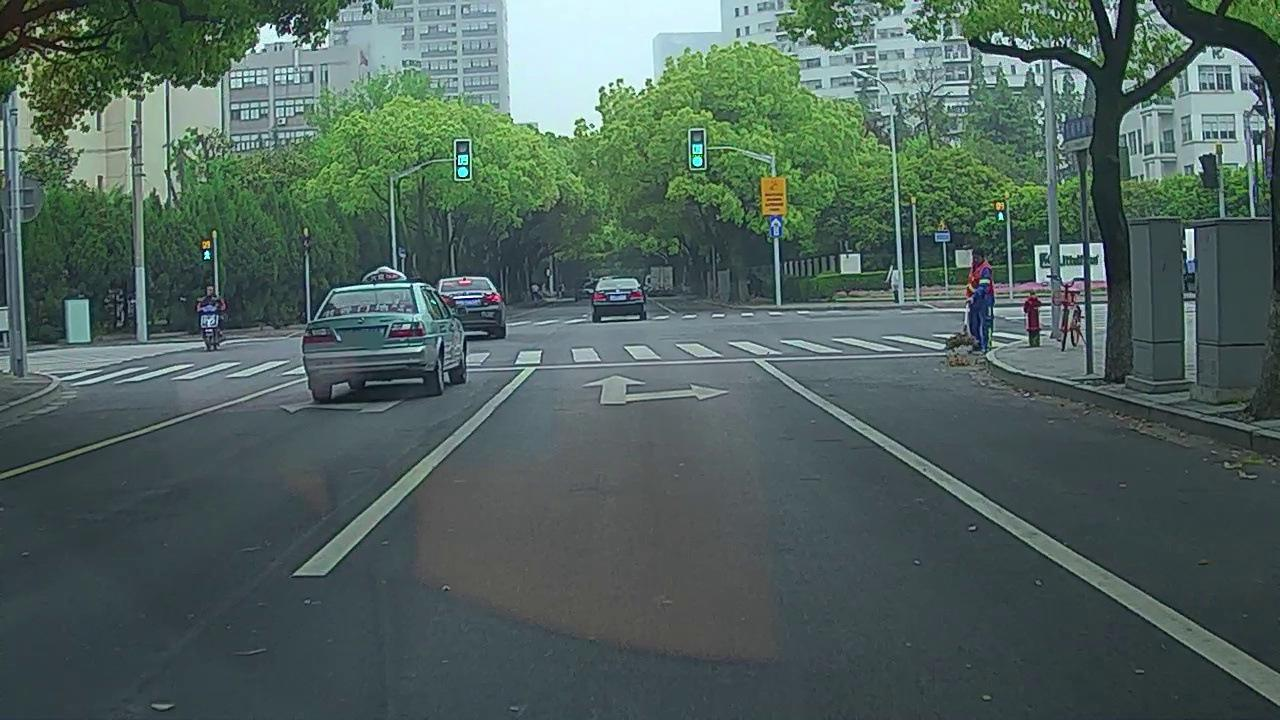traffic_light: (455, 139, 472, 181), (689, 127, 705, 169)
